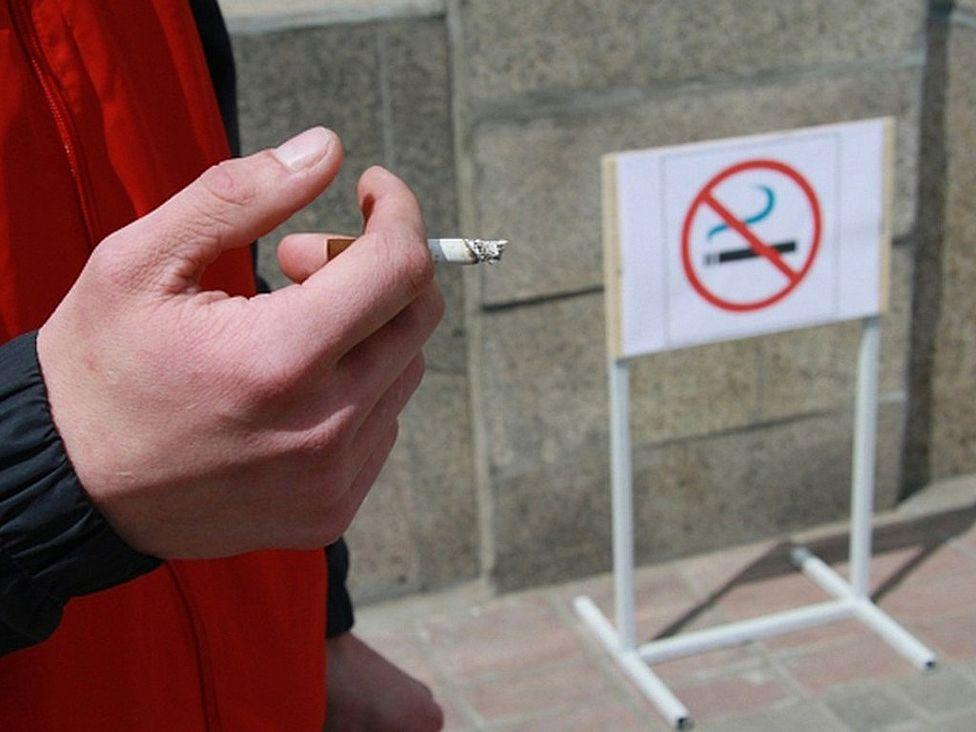cigarette: (426, 237, 510, 269)
